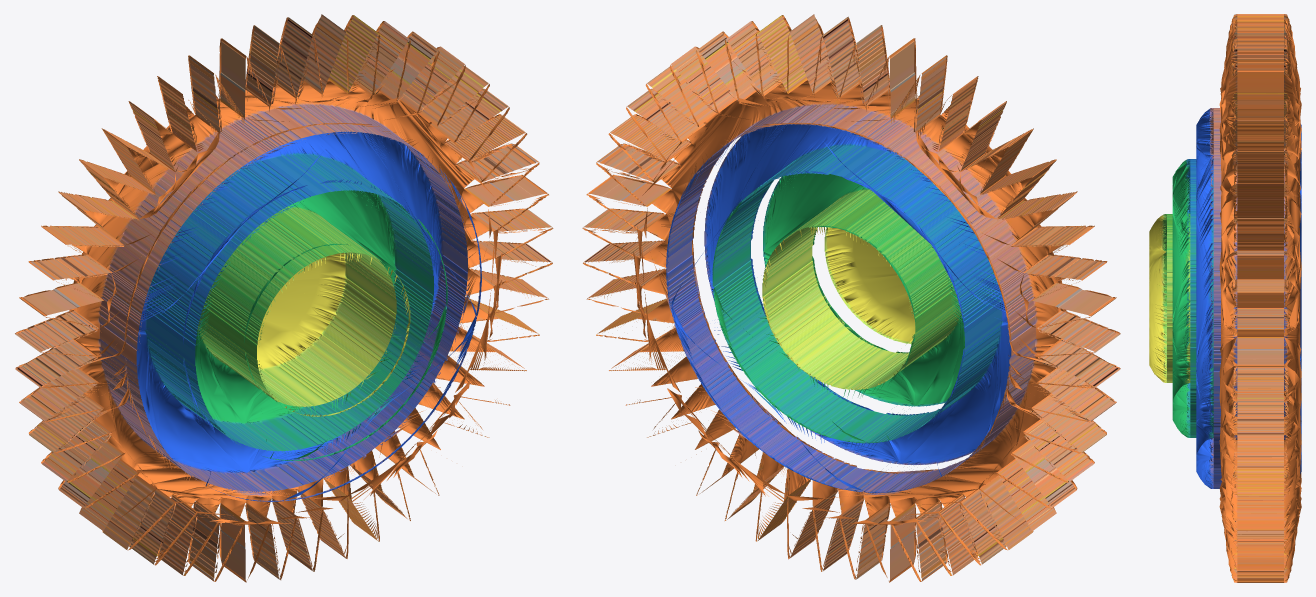
Rendered from sunburst.web.glb.
3 renders of one model, left to right at view 1: azimuth 30°, elevation 25°; view 2: azimuth 150°, elevation 25°; view 3: azimuth 270°, elevation 25°, orthographic. The views are drawn at different scales.
Visible parts, largest first — view 1: layer-0; view 2: layer-0; view 3: layer-0.
Part boxes in pixels (box(x1,y1,x2,y2)): layer-0: box(15, 14, 553, 582); layer-0: box(582, 14, 1120, 582); layer-0: box(1149, 14, 1301, 582).
Size of the model in its own units: 0.9707 by 0.9707 by 0.26.
Materials: 1 (1 with a texture image).
